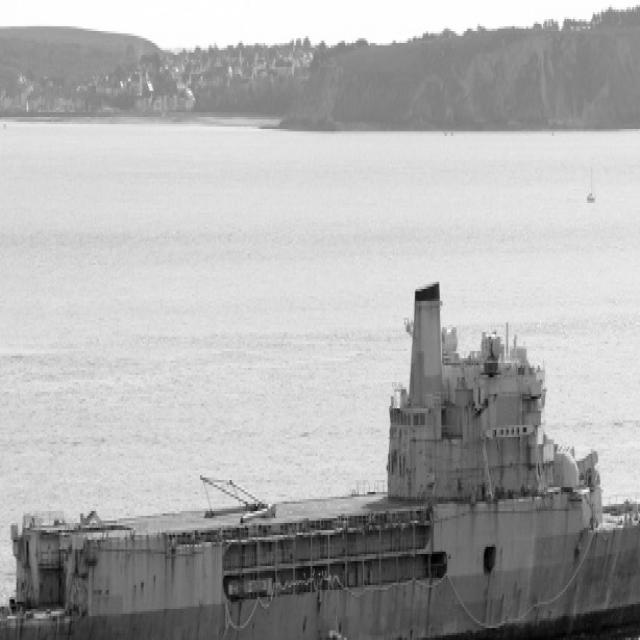Portanaves: (1, 273, 640, 640)
